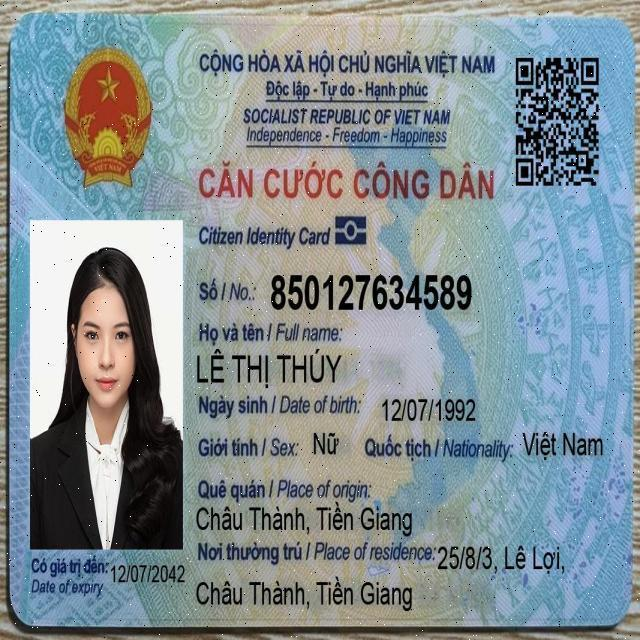current_place: (435, 541, 567, 578)
dob: (379, 394, 478, 429)
expire_date: (109, 559, 187, 589)
gender: (311, 427, 341, 462)
id: (268, 268, 475, 319)
name: (194, 345, 345, 393)
nationality: (520, 428, 605, 465)
origin_place: (193, 498, 415, 541)
